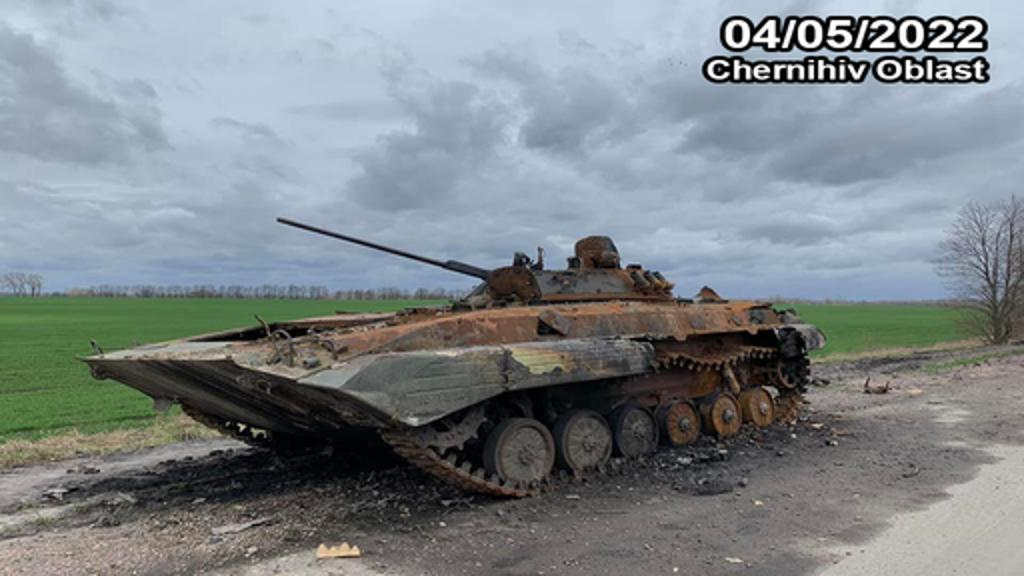APC-IFV: (74, 212, 818, 504)
